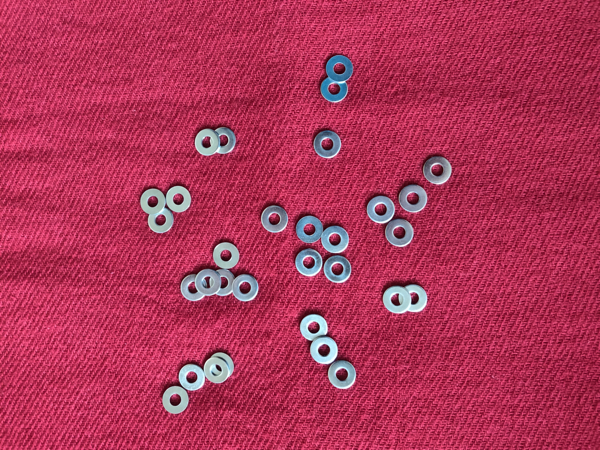circles: (207, 125, 238, 158), (312, 128, 343, 161), (366, 193, 397, 226), (260, 203, 291, 236), (180, 271, 211, 304), (309, 335, 340, 368), (328, 359, 359, 392), (137, 185, 168, 217), (164, 183, 195, 215), (146, 205, 177, 237), (190, 126, 221, 158), (319, 72, 350, 104), (324, 53, 355, 85), (423, 153, 454, 185), (398, 183, 429, 215), (384, 217, 415, 249), (320, 224, 351, 256), (294, 246, 325, 278), (322, 254, 353, 286), (212, 239, 243, 271), (192, 266, 223, 298), (208, 268, 239, 300), (229, 273, 260, 305), (381, 284, 412, 316), (398, 282, 429, 314), (299, 312, 330, 344), (202, 356, 233, 388), (206, 348, 237, 380), (177, 362, 208, 394), (160, 385, 191, 417), (295, 213, 325, 246)
